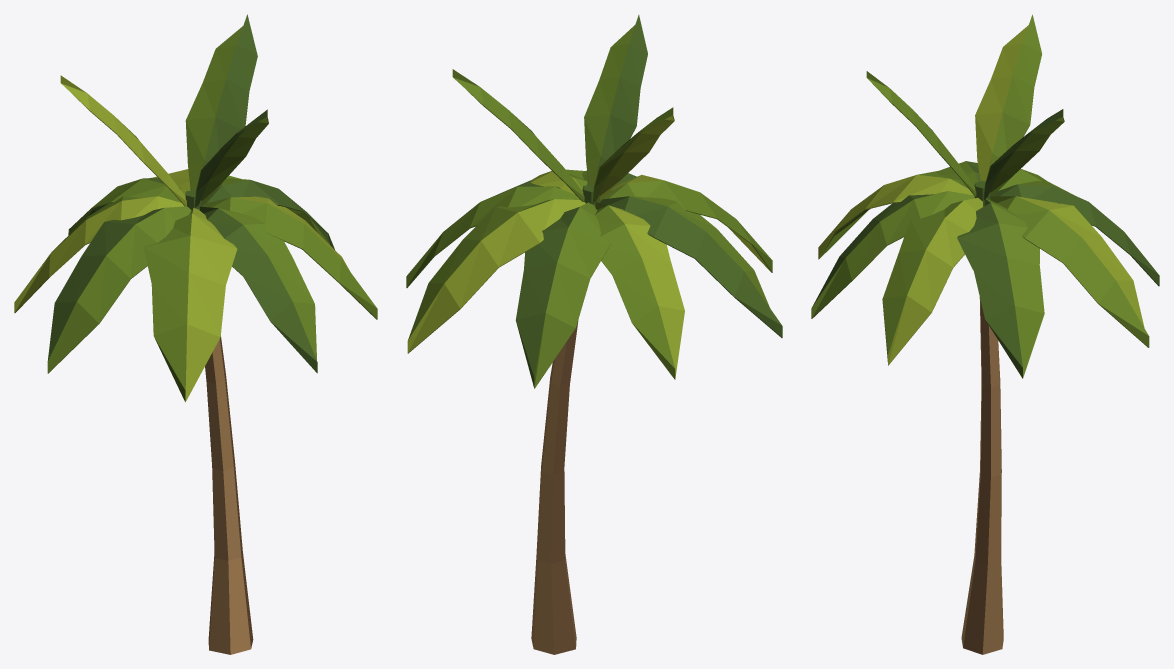
Rendered from palm_a_far.glb.
3 views of the same model, side by side, from view 1: azimuth 30°, elevation 25°; view 2: azimuth 150°, elevation 25°; view 3: azimuth 270°, elevation 25° (orthographic). The views are drawn at different scales.
Visible parts, largest first — view 1: body; view 2: body; view 3: body.
Boxes of the visible parts, box(x1,y1,x2,y2) form: body: box(14, 14, 377, 654); body: box(406, 14, 782, 654); body: box(811, 14, 1159, 654).
Size of the model in its own units: 5.07 by 8.6 by 4.82.
